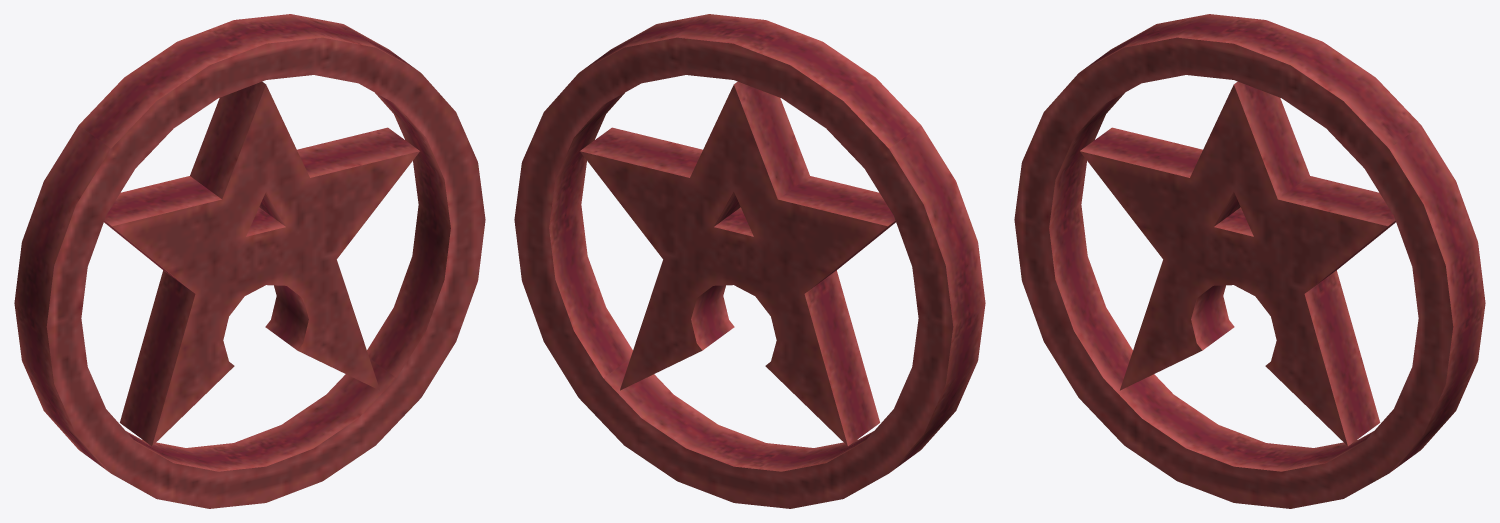
The model's file is SPANKY.ICO.obj.
3 views of the same model, side by side, from view 1: azimuth 30°, elevation 25°; view 2: azimuth 150°, elevation 25°; view 3: azimuth 330°, elevation 25° (orthographic).
Bounding box in the file's own units: 2.39 × 2.39 × 0.3042.
1 material, 1 textured.
